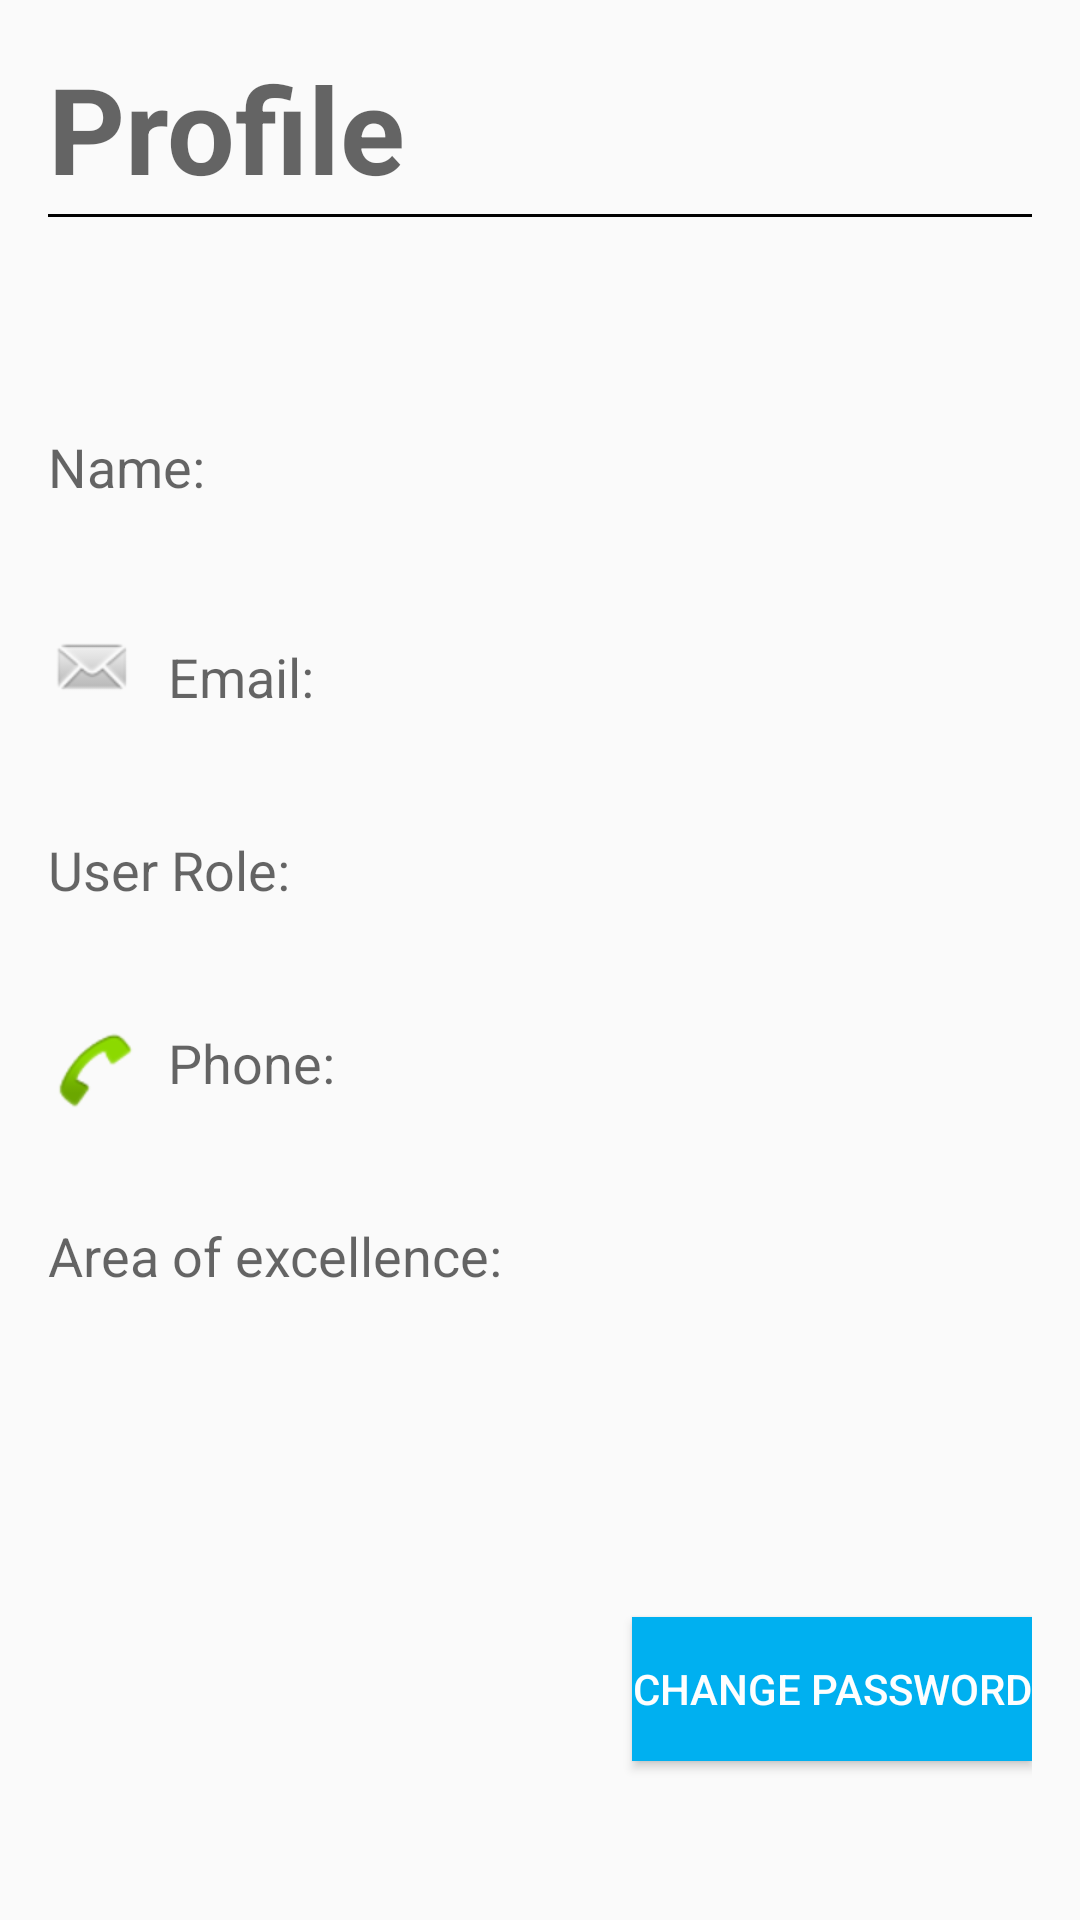

Locate icon controls on the screen. Image size 1080 × 1920, boxes as (x1, y1, x2, y2).
sym action call: (59, 1034, 132, 1107)
